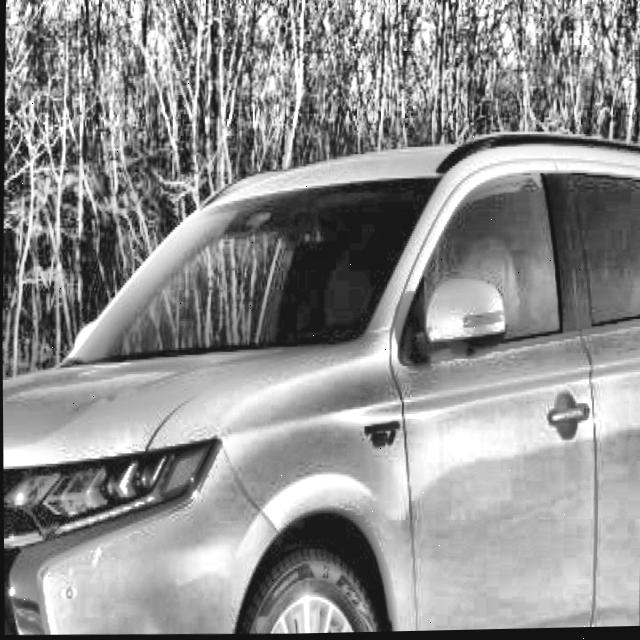light_vehicle: (1, 120, 640, 640)
